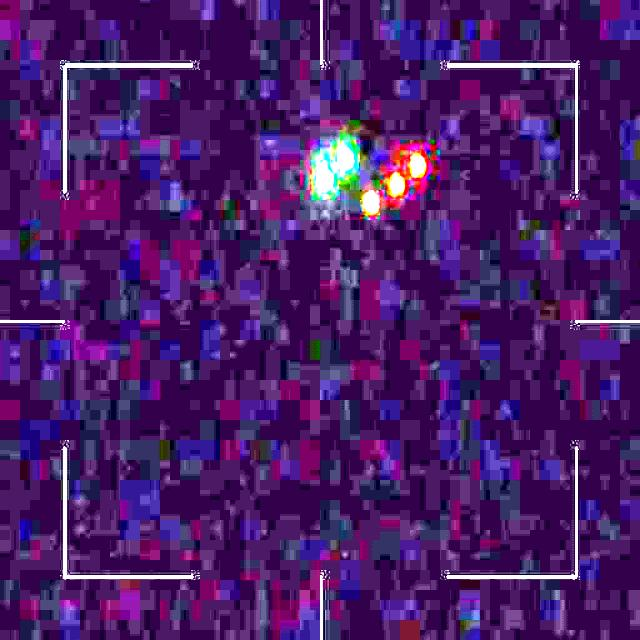bird: (315, 148, 426, 219)
